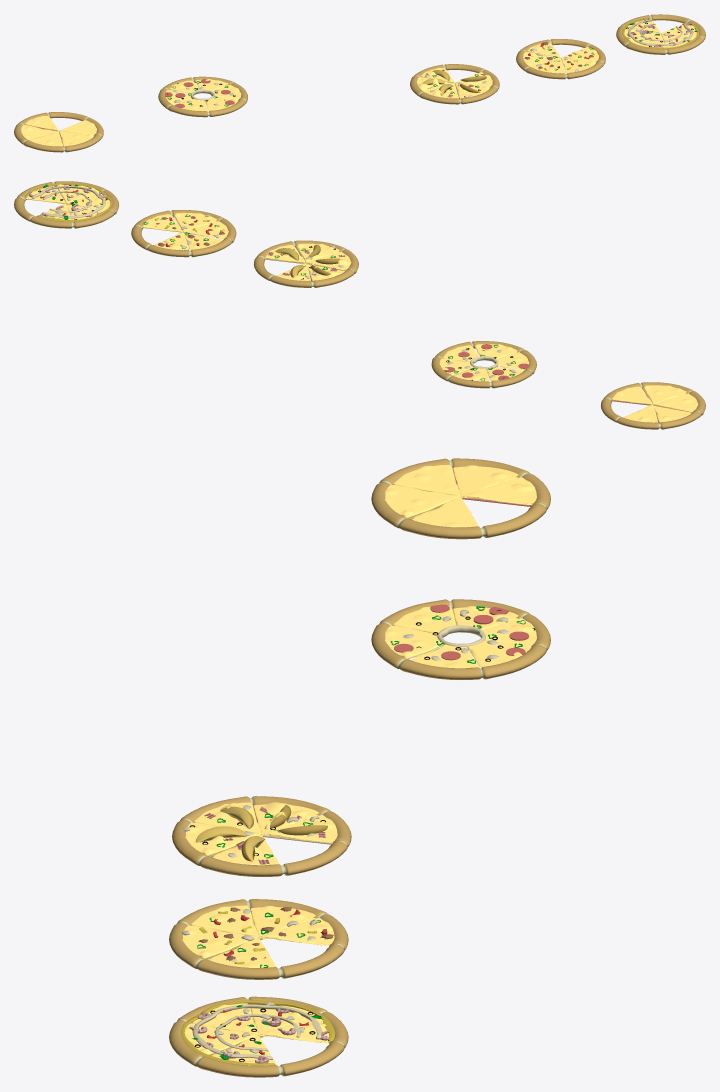
Rendered from Pizza Cheese,Potato,Bulgogi.fbx.
The picture shows the model from 3 angles, top to bottom: view 1: azimuth 30°, elevation 25°; view 2: azimuth 150°, elevation 25°; view 3: azimuth 270°, elevation 25°; orthographic projection. The views are drawn at different scales.
Visible parts, largest first — view 1: Cube.000, Cube.044, Cube.018, Cube.004, Cube.017; view 2: Cube.000, Cube.004, Cube.044, Cube.018, Cube.017; view 3: Cube.000, Cube.004, Cube.044, Cube.018, Cube.017.
Boxes of the visible parts, x1,y1,x2,y2 form: Cube.000: (158, 76, 247, 117); Cube.044: (616, 14, 705, 54); Cube.018: (516, 39, 605, 79); Cube.004: (410, 64, 499, 104); Cube.017: (14, 112, 103, 152); Cube.000: (431, 341, 536, 388); Cube.004: (254, 240, 358, 287); Cube.044: (14, 181, 118, 228); Cube.018: (131, 210, 236, 257); Cube.017: (601, 382, 705, 429); Cube.000: (371, 599, 550, 679); Cube.004: (172, 796, 351, 876); Cube.044: (169, 996, 348, 1077); Cube.018: (169, 899, 348, 979); Cube.017: (371, 458, 550, 539).
Size of the model in its own units: 2291 by 31.74 by 602.
